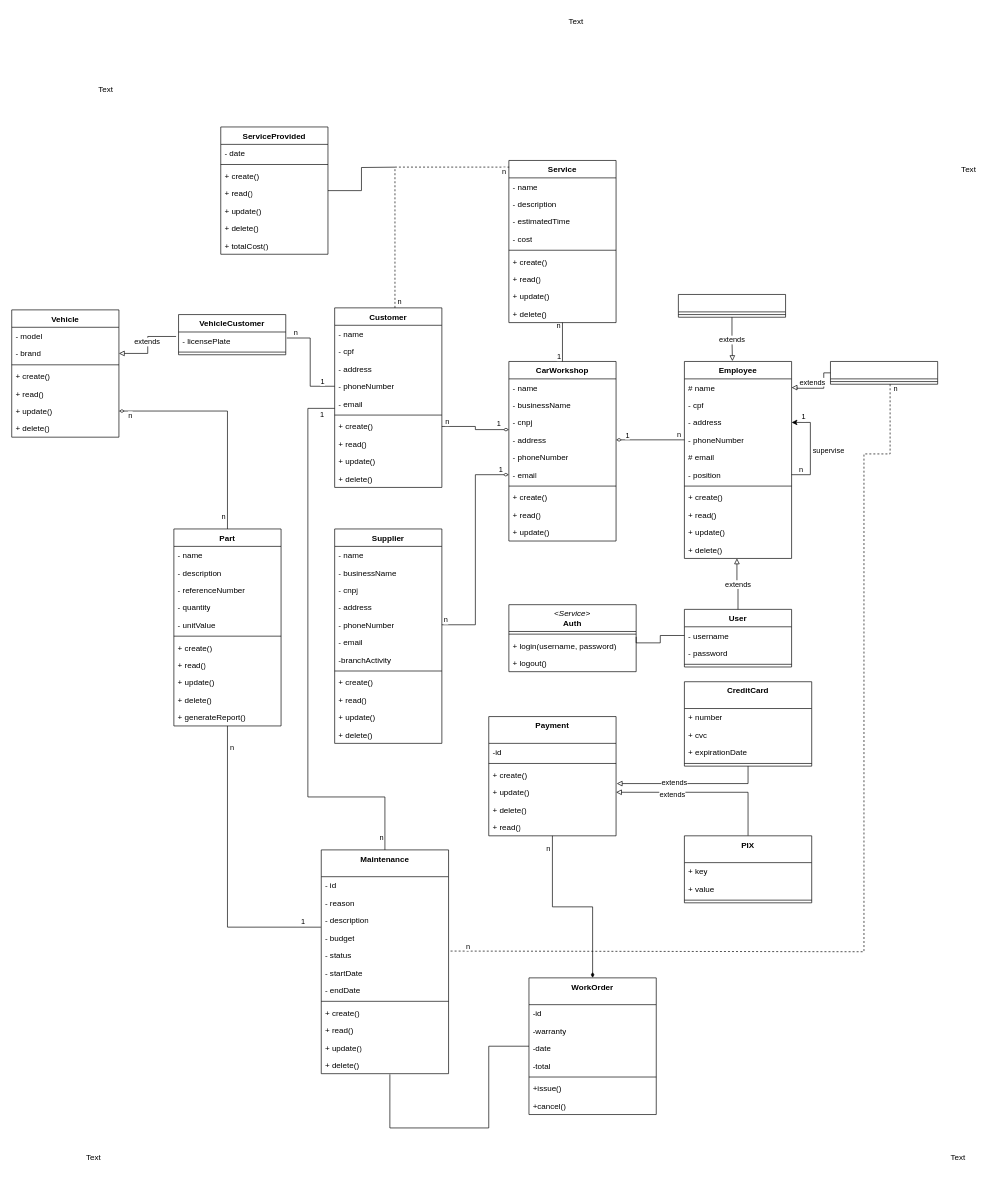
This 994x1179 diagram has some shape labels left out. The centre of each missing label's shape, as x and y in pixels:
"attendant" goes at (732,305).
"Mechanic" goes at (884,372).
